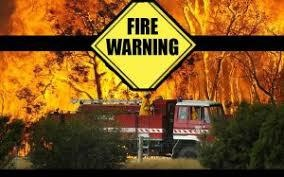fire: (4, 0, 119, 37)
